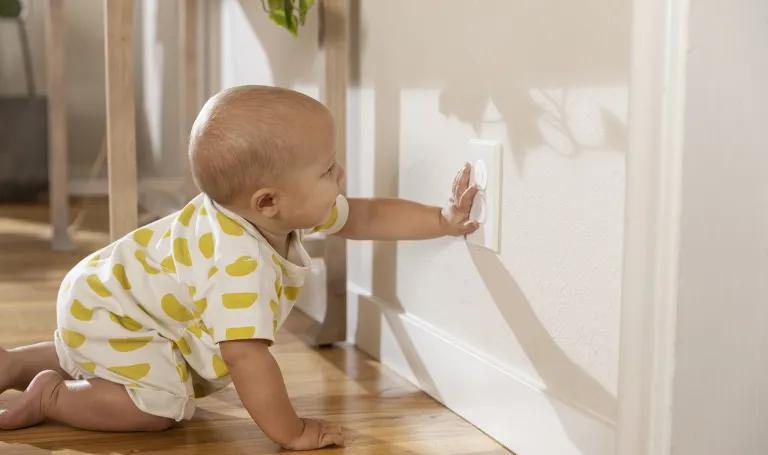child: (7, 70, 503, 455)
